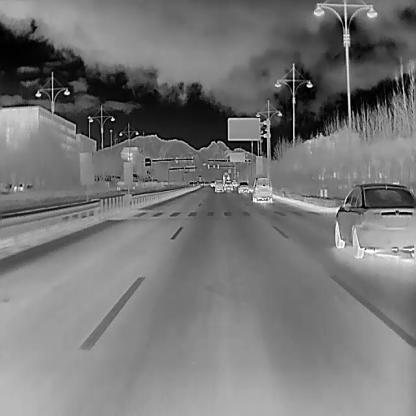car: (334, 183, 416, 258), (252, 177, 273, 202), (237, 181, 249, 194), (224, 179, 234, 191), (213, 180, 223, 192), (222, 171, 229, 182), (231, 177, 237, 185), (209, 179, 215, 187), (188, 180, 194, 186), (195, 179, 200, 184), (203, 180, 208, 184)
